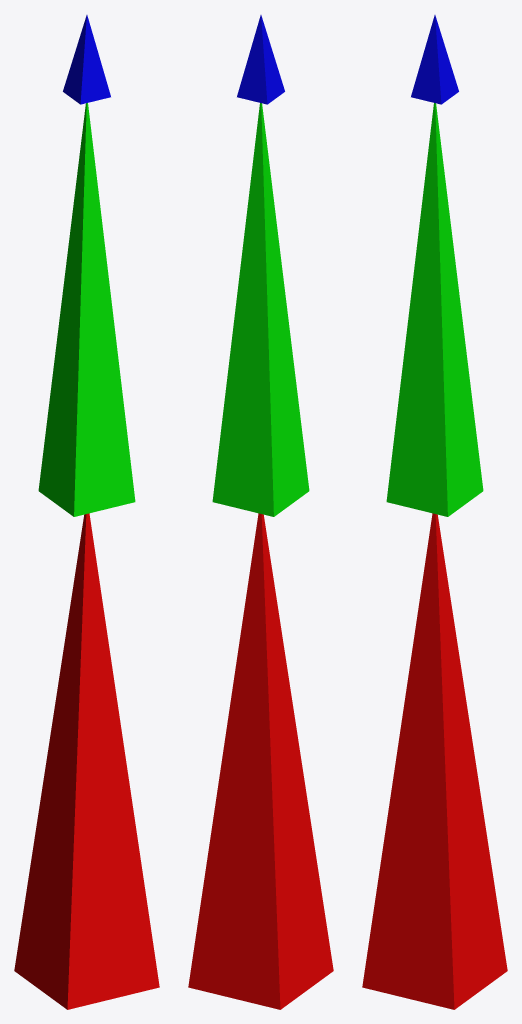
File: robot.dae
3 renders of one model, left to right at view 1: azimuth 30°, elevation 25°; view 2: azimuth 150°, elevation 25°; view 3: azimuth 330°, elevation 25°, orthographic.
Parts seen in each view (by area): view 1: Product, Product2, Product3; view 2: Product, Product2, Product3; view 3: Product, Product2, Product3.
Boxes of the visible parts, <box> form: Product: <box>14,513,159,1009</box>; Product2: <box>38,103,135,516</box>; Product3: <box>63,15,110,104</box>; Product: <box>188,513,333,1009</box>; Product2: <box>212,103,309,516</box>; Product3: <box>237,15,284,104</box>; Product: <box>362,513,507,1009</box>; Product2: <box>386,103,483,516</box>; Product3: <box>411,15,458,104</box>.
Bounding box in the file's own units: 6000 × 6000 × 60000.
